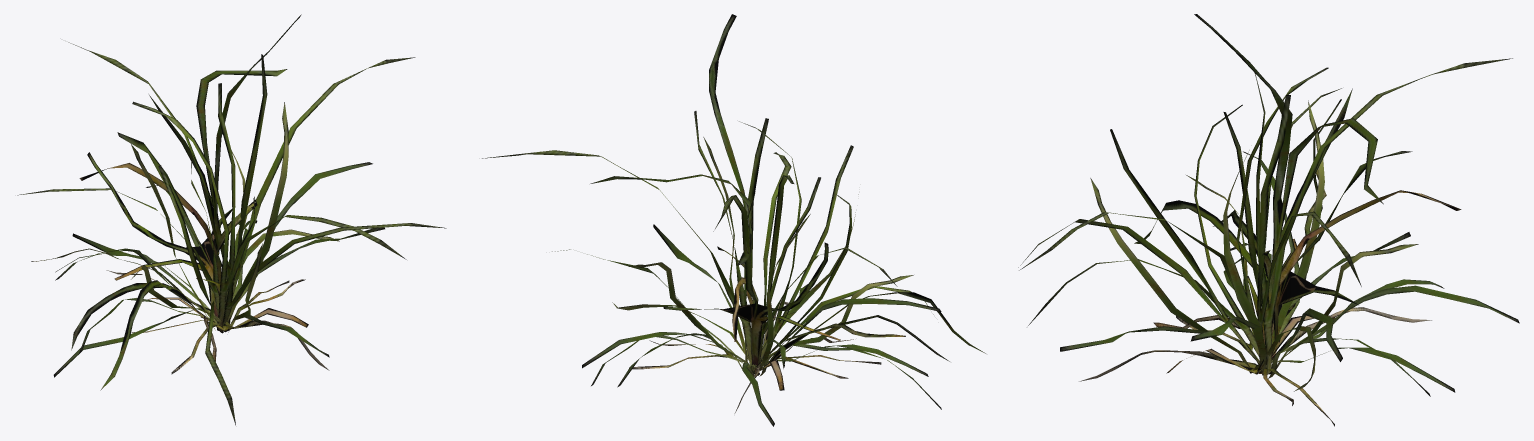
Rendered from grass_medium_01_0.glb.
3 renders of one model, left to right at view 1: azimuth 30°, elevation 25°; view 2: azimuth 150°, elevation 25°; view 3: azimuth 270°, elevation 25°, orthographic. The views are drawn at different scales.
Parts seen in each view (by area): view 1: grass_medium_01_small_a_LOD0; view 2: grass_medium_01_small_a_LOD0; view 3: grass_medium_01_small_a_LOD0.
Boxes of the visible parts, left/top/right/bottom form: grass_medium_01_small_a_LOD0: left=17, top=14, right=446, bottom=425; grass_medium_01_small_a_LOD0: left=482, top=14, right=985, bottom=426; grass_medium_01_small_a_LOD0: left=1018, top=14, right=1519, bottom=426.
Size of the model in its own units: 0.1847 by 0.1404 by 0.1623.
1 material, 1 textured.
